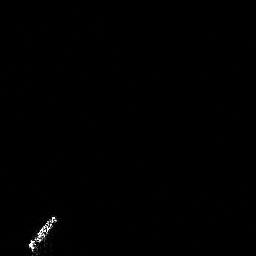ship: (25, 210, 61, 256)
